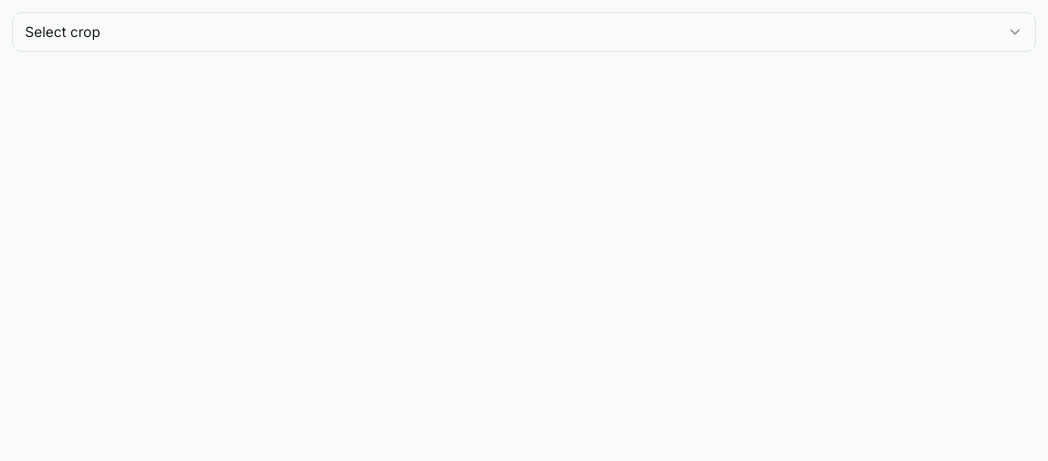
Test: CatalogueSelectItems › badges a pilot item and keeps it selectable
The width and height of the screenshot is (1048, 461).
Click the dropdown labelled "crop" at (63, 32), box [12,12,1036,52]
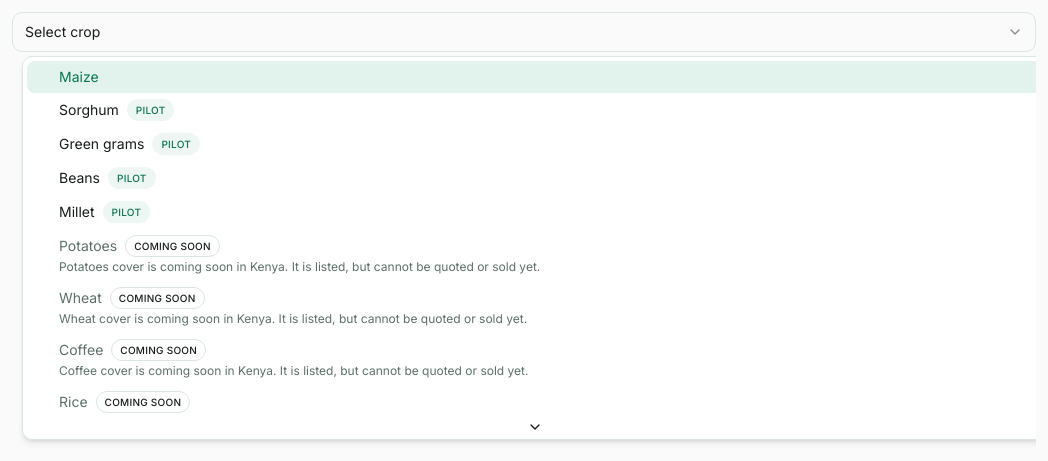
Expected: the option "Sorghum Pilot" is shown, [59,99,174,121]
